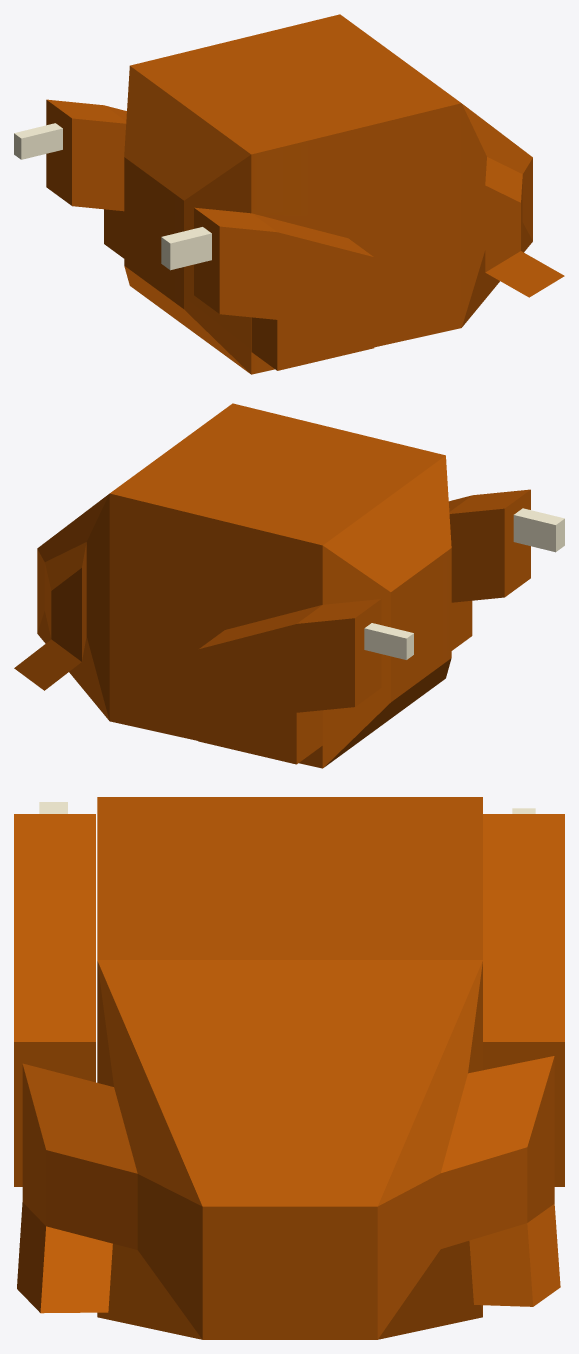
Rendered from duck.fbx.
3 views of the same model, one above another, from view 1: azimuth 30°, elevation 25°; view 2: azimuth 150°, elevation 25°; view 3: azimuth 270°, elevation 25° (orthographic). The views are drawn at different scales.
Parts seen in each view (by area): view 1: Cube, Cube.002, Cube.001; view 2: Cube, Cube.002, Cube.001; view 3: Cube.
Part boxes in pixels (x1,y1,x2,y2): Cube: [46, 14, 564, 374]; Cube.002: [161, 227, 211, 270]; Cube.001: [14, 123, 62, 159]; Cube: [14, 403, 530, 768]; Cube.002: [513, 508, 564, 552]; Cube.001: [364, 623, 413, 659]; Cube: [14, 797, 564, 1339].
Bounding box in the file's own units: 221 × 115 × 160.
